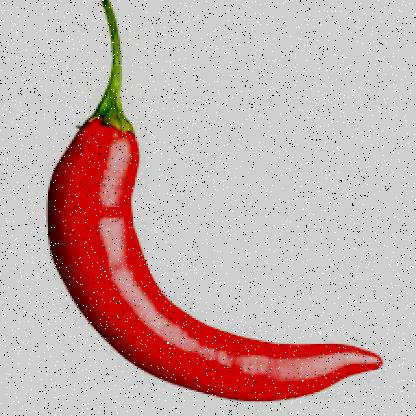chili: (45, 55, 386, 402)
